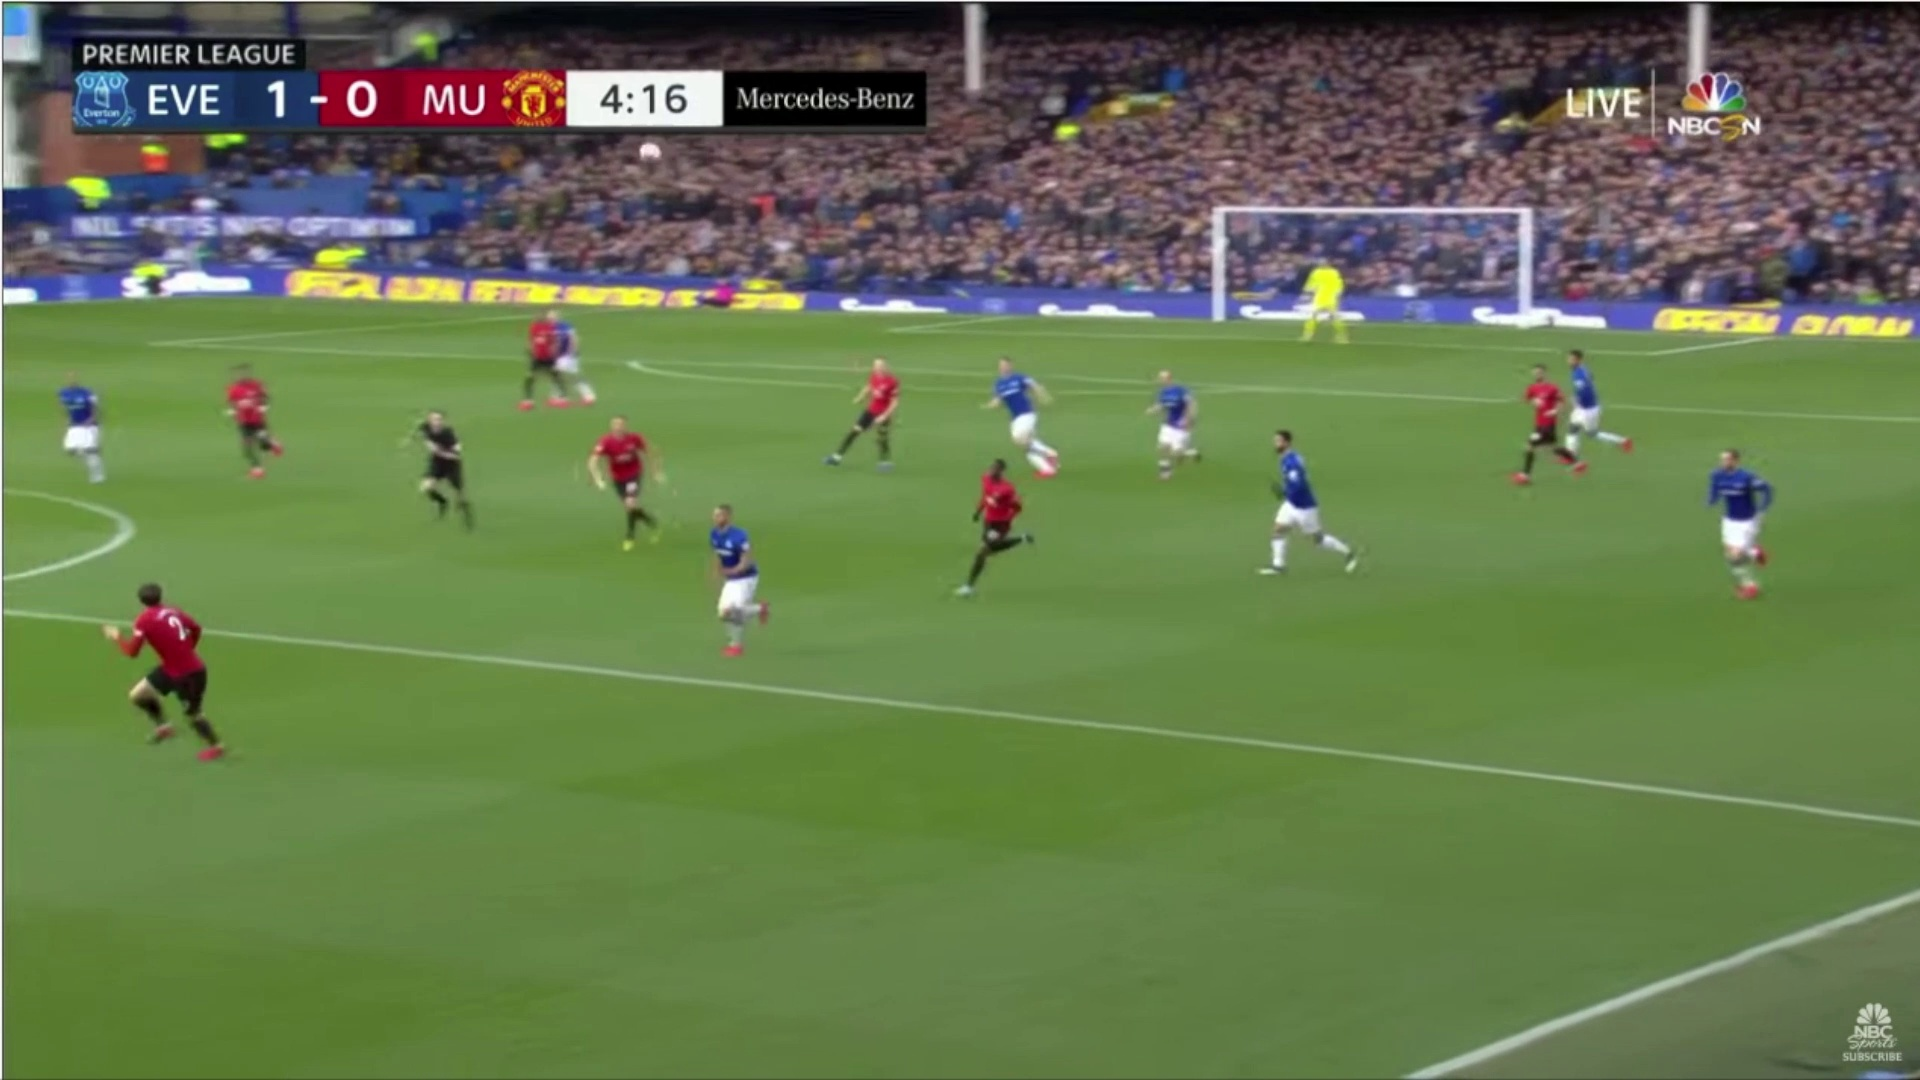ball: (627, 135, 672, 175)
player: (91, 567, 275, 769), (1685, 438, 1806, 602), (1250, 421, 1358, 594), (691, 490, 787, 677), (574, 406, 683, 562), (939, 446, 1041, 602), (974, 348, 1087, 487), (202, 348, 297, 485), (1552, 344, 1652, 463), (37, 360, 131, 487), (1125, 352, 1212, 488), (1506, 352, 1583, 498), (820, 348, 908, 471), (500, 304, 572, 417), (1291, 252, 1374, 348), (543, 300, 612, 402)
